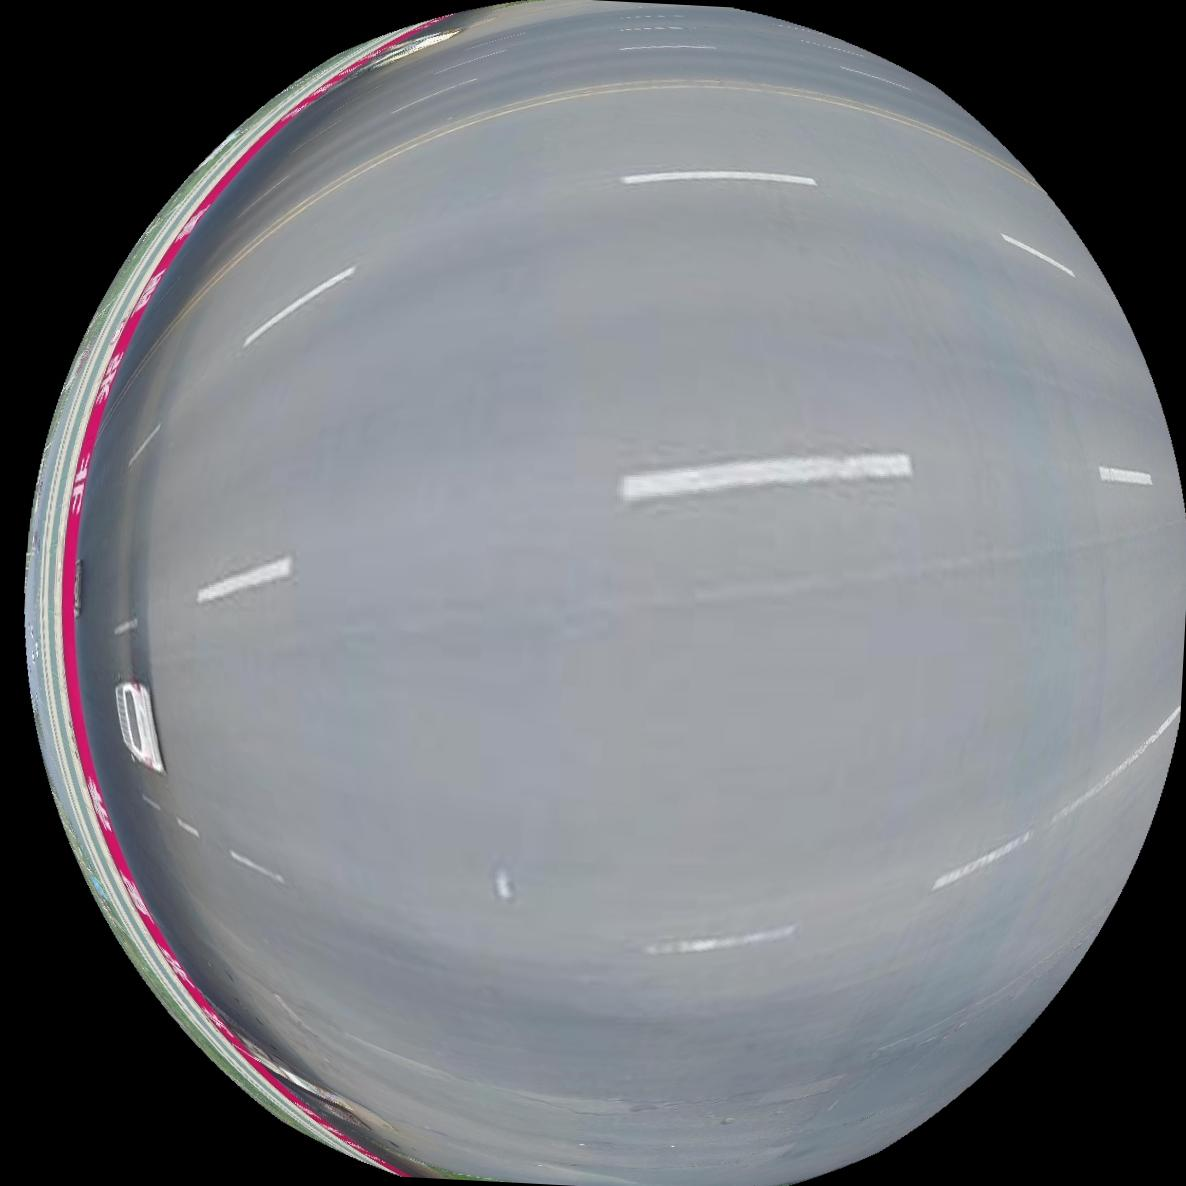cars: (113, 681, 163, 772)
